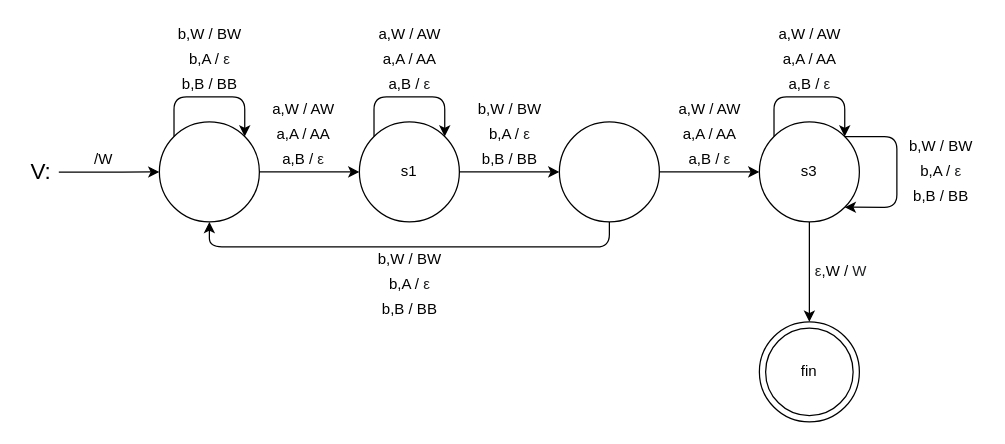
Some shapes in this 1005 by 444 pixel diagram are drawn without their labels. The centre of each missing label's shape, as x and y in pixels:
s0: point (208, 171)
s2: point (608, 171)
